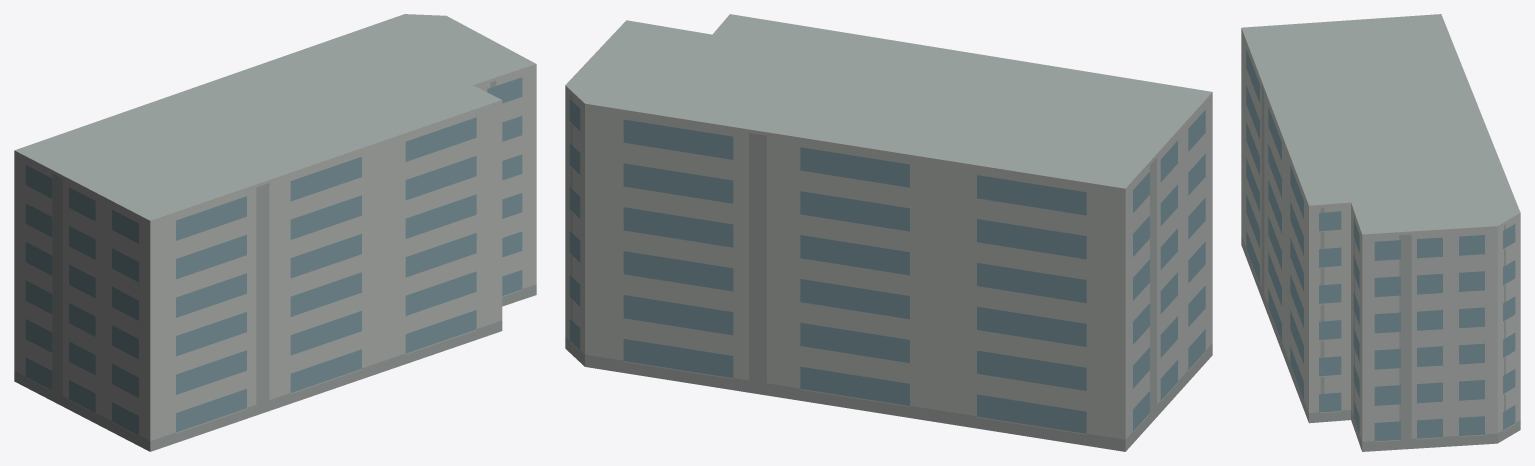
Rendered from survey-upis-32703058.glb.
The picture shows the model from 3 angles, left to right: view 1: azimuth 30°, elevation 25°; view 2: azimuth 150°, elevation 25°; view 3: azimuth 270°, elevation 25°; orthographic projection. The views are drawn at different scales.
Parts seen in each view (by area): view 1: survey-upis-32703058.tmp; view 2: survey-upis-32703058.tmp; view 3: survey-upis-32703058.tmp.
Part boxes in pixels (box(x1,y1,x2,y2)): survey-upis-32703058.tmp: box(14, 14, 536, 451); survey-upis-32703058.tmp: box(565, 14, 1212, 451); survey-upis-32703058.tmp: box(1241, 14, 1520, 451).
Bounding box in the file's own units: 39.8 × 18.3 × 21.3.
